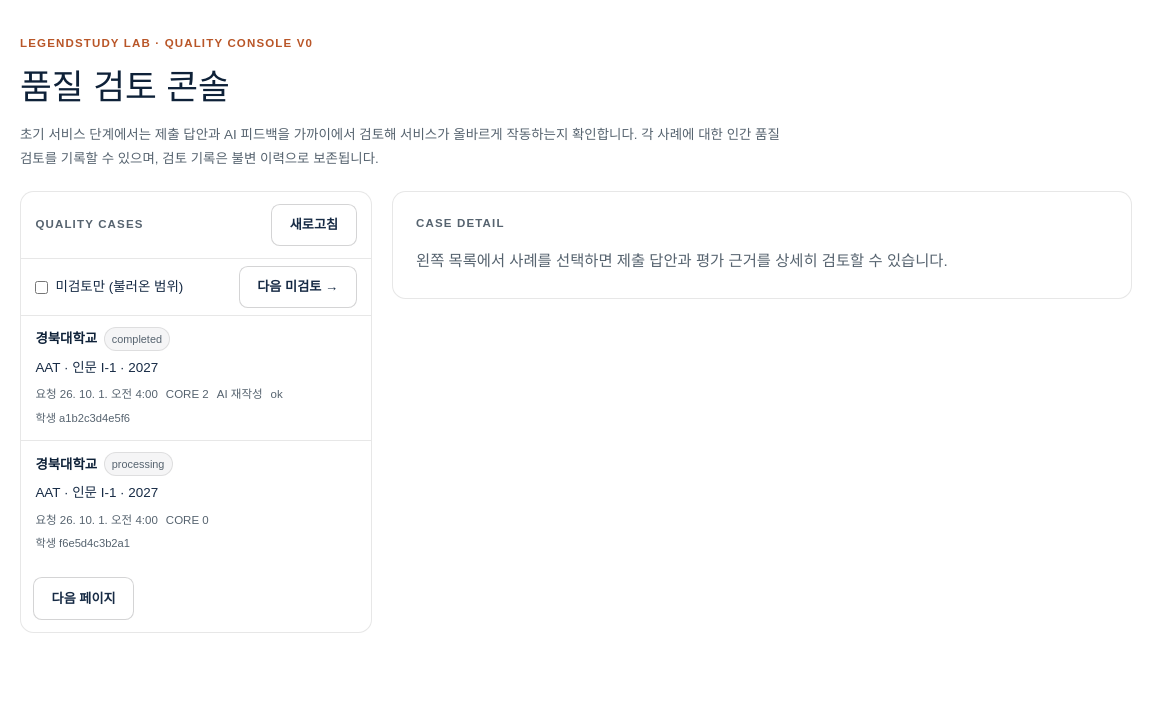
Test case: QualityConsole operator workspace › T15: sentence feedback unavailable renders an explicit unavailable state
Click the text "completed": (137, 339) [104, 327, 170, 351]
(page scrolled)
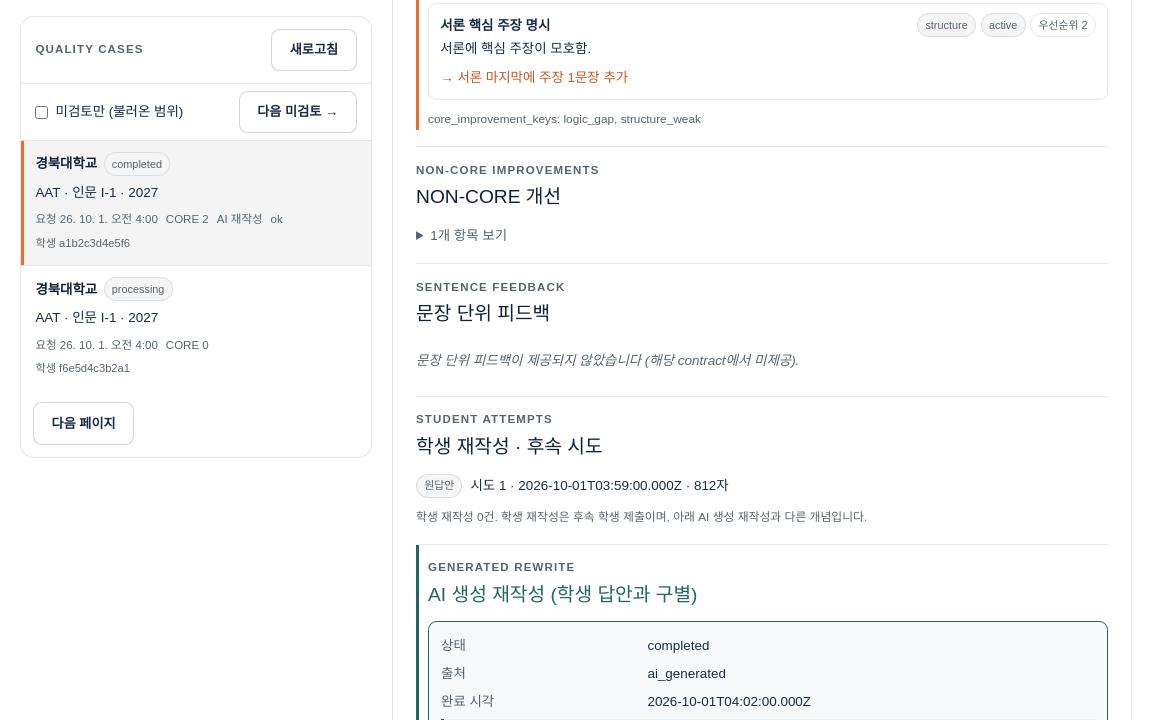
Expected: the text "문장 단위 피드백이 제공되지 않았습니다 (해당 contract에서 미제공)." is shown, [416, 352, 799, 368]
